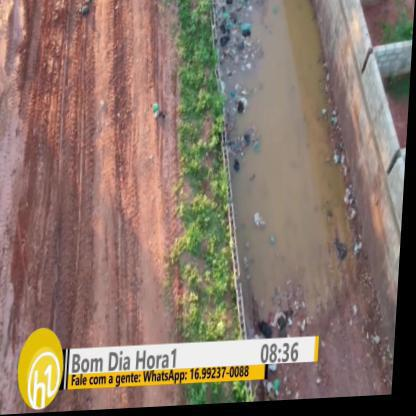agua: (246, 0, 324, 313)
